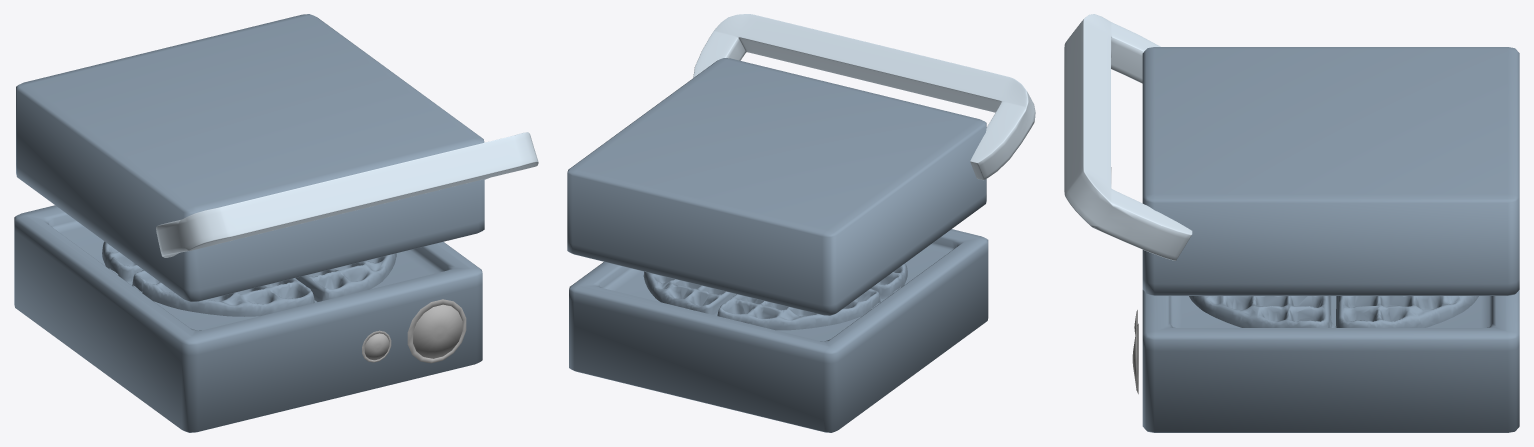
Rendered from waffleMaker (1).fbx.
The picture shows the model from 3 angles, left to right: view 1: azimuth 30°, elevation 25°; view 2: azimuth 150°, elevation 25°; view 3: azimuth 270°, elevation 25°; orthographic projection. The views are drawn at different scales.
Parts seen in each view (by area): view 1: Cube.011, industrial_oven_low.005; view 2: Cube.011, industrial_oven_low.005; view 3: Cube.011, industrial_oven_low.005.
Part boxes in pixels (left/top/right/bottom): Cube.011: left=16, top=14, right=538, bottom=302; industrial_oven_low.005: left=14, top=205, right=482, bottom=432; Cube.011: left=567, top=14, right=1035, bottom=315; industrial_oven_low.005: left=569, top=229, right=988, bottom=432; Cube.011: left=1064, top=14, right=1519, bottom=295; industrial_oven_low.005: left=1132, top=290, right=1519, bottom=432.
Bounding box in the file's own units: 50.28 × 34.14 × 53.34.
